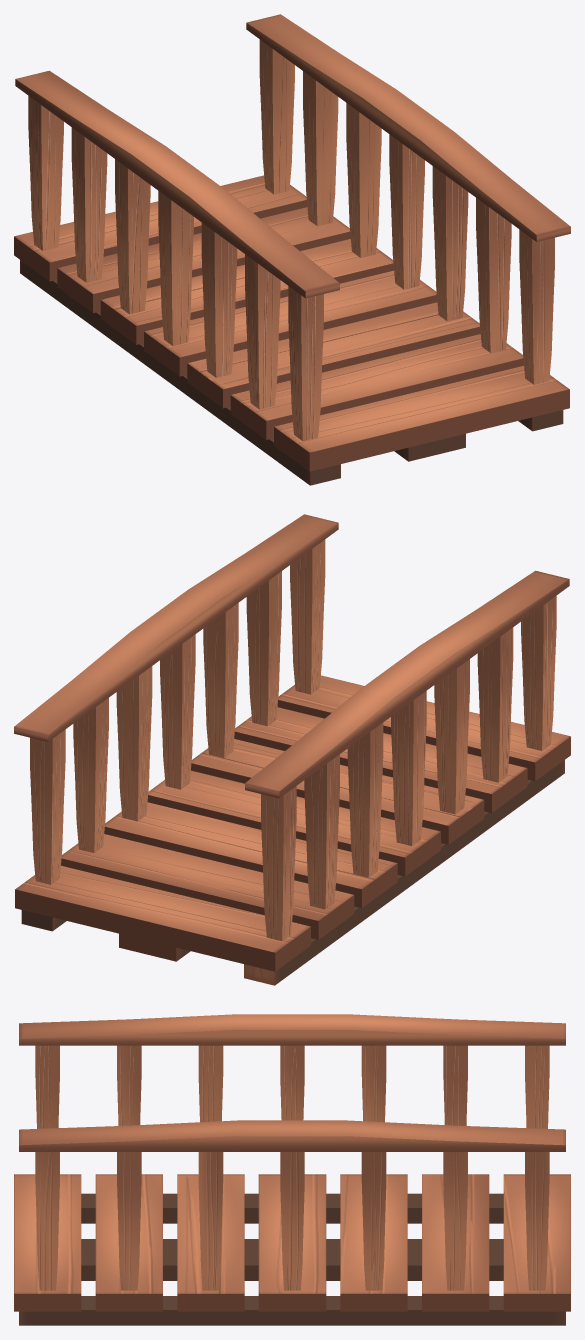
File: bridge02new_color.fbx
The picture shows the model from 3 angles, top to bottom: view 1: azimuth 30°, elevation 25°; view 2: azimuth 150°, elevation 25°; view 3: azimuth 270°, elevation 25°; orthographic projection. The views are drawn at different scales.
Visible parts, largest first — view 1: Cube.025; view 2: Cube.025; view 3: Cube.025.
Boxes of the visible parts, x1,y1,x2,y2 form: Cube.025: (14, 14, 570, 485); Cube.025: (14, 514, 570, 985); Cube.025: (14, 1014, 570, 1325).
Bounding box in the file's own units: 28.3 × 20.88 × 54.61.
1 material, 1 textured.
